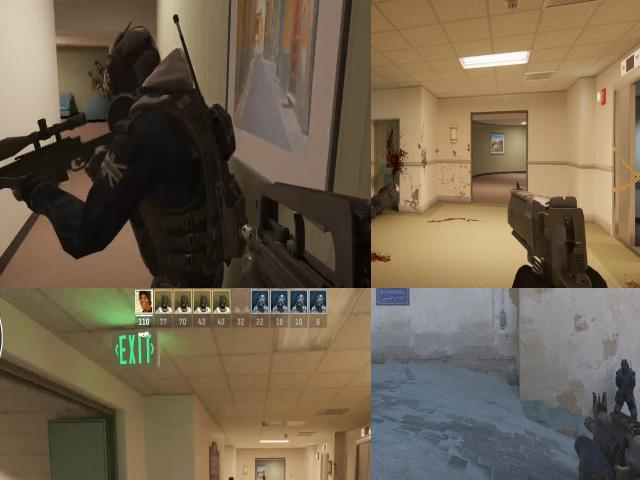CT: (99, 0, 226, 288), (617, 360, 635, 414)
CT-Head: (99, 18, 168, 132), (622, 359, 629, 371), (225, 476, 237, 480)
Dead: (371, 177, 403, 223)
T: (259, 473, 269, 480)
T-Head: (261, 475, 266, 480)
